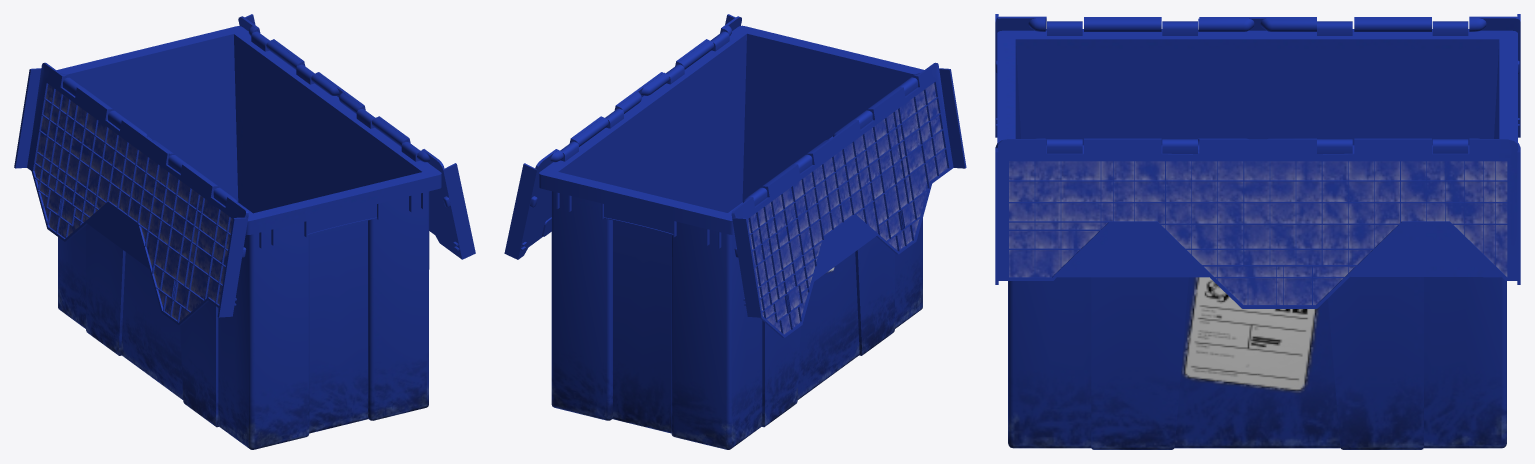
File: industrial_pastic_container.fbx
The picture shows the model from 3 angles, left to right: view 1: azimuth 30°, elevation 25°; view 2: azimuth 150°, elevation 25°; view 3: azimuth 270°, elevation 25°; orthographic projection. The views are drawn at different scales.
Parts seen in each view (by area): view 1: industrial_pastic_container, industrial_pastic_container_lid_b, industrial_pastic_container_lid_a; view 2: industrial_pastic_container, industrial_pastic_container_lid_b, industrial_pastic_container_lid_a; view 3: industrial_pastic_container, industrial_pastic_container_lid_a, industrial_pastic_container_lid_b.
Boxes of the visible parts, <box> form: industrial_pastic_container: <box>56,26,441,449</box>; industrial_pastic_container_lid_b: <box>14,62,248,325</box>; industrial_pastic_container_lid_a: <box>238,14,475,259</box>; industrial_pastic_container: <box>539,25,923,449</box>; industrial_pastic_container_lid_b: <box>731,62,966,337</box>; industrial_pastic_container_lid_a: <box>504,14,741,259</box>; industrial_pastic_container: <box>997,21,1517,449</box>; industrial_pastic_container_lid_a: <box>995,138,1520,308</box>; industrial_pastic_container_lid_b: <box>995,14,1520,137</box>.
Bounding box in the file's own units: 0.4572 × 0.4188 × 0.6315.
1 material, 1 textured.
